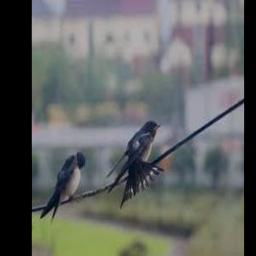Swallow: (106, 120, 164, 210), (40, 152, 86, 225)
